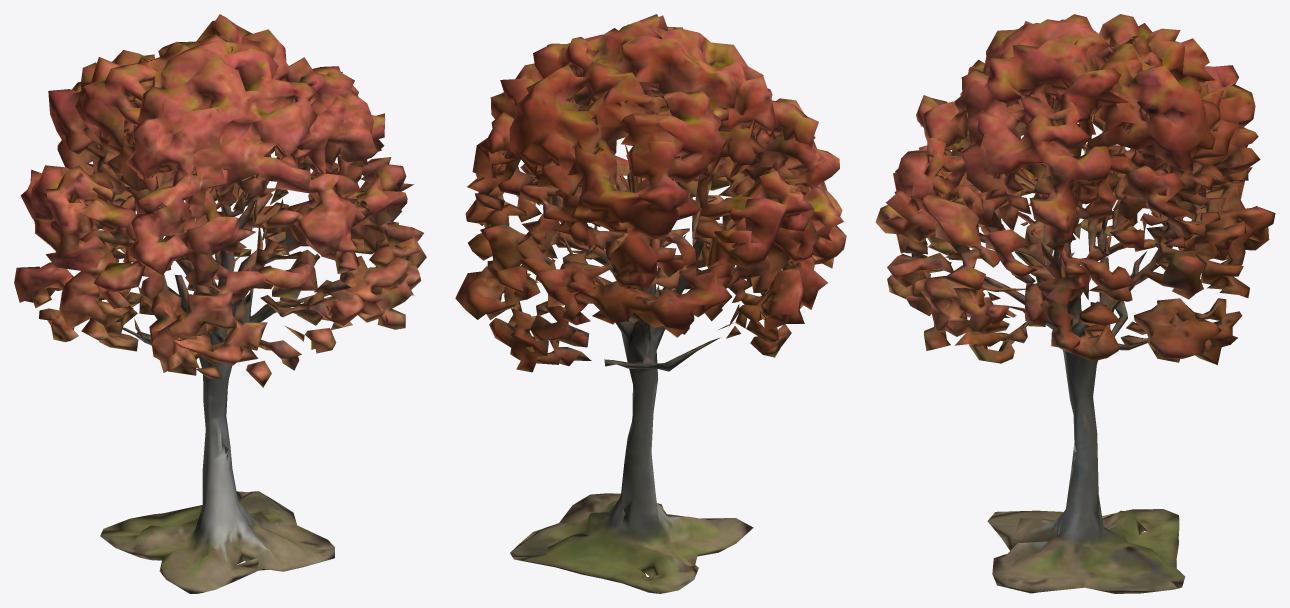
File: Maple_Tree_0125064424_texture.fbx
3 renders of one model, left to right at view 1: azimuth 30°, elevation 25°; view 2: azimuth 150°, elevation 25°; view 3: azimuth 270°, elevation 25°, orthographic. The views are drawn at different scales.
Parts seen in each view (by area): view 1: Mesh1; view 2: Mesh1; view 3: Mesh1.
Part boxes in pixels (x1=…): Mesh1: x1=14, y1=14, x2=426, y2=593; Mesh1: x1=455, y1=14, x2=846, y2=593; Mesh1: x1=875, y1=14, x2=1275, y2=593.
Size of the model in its own units: 145 by 200 by 138.
Materials: 1 (1 with a texture image).
